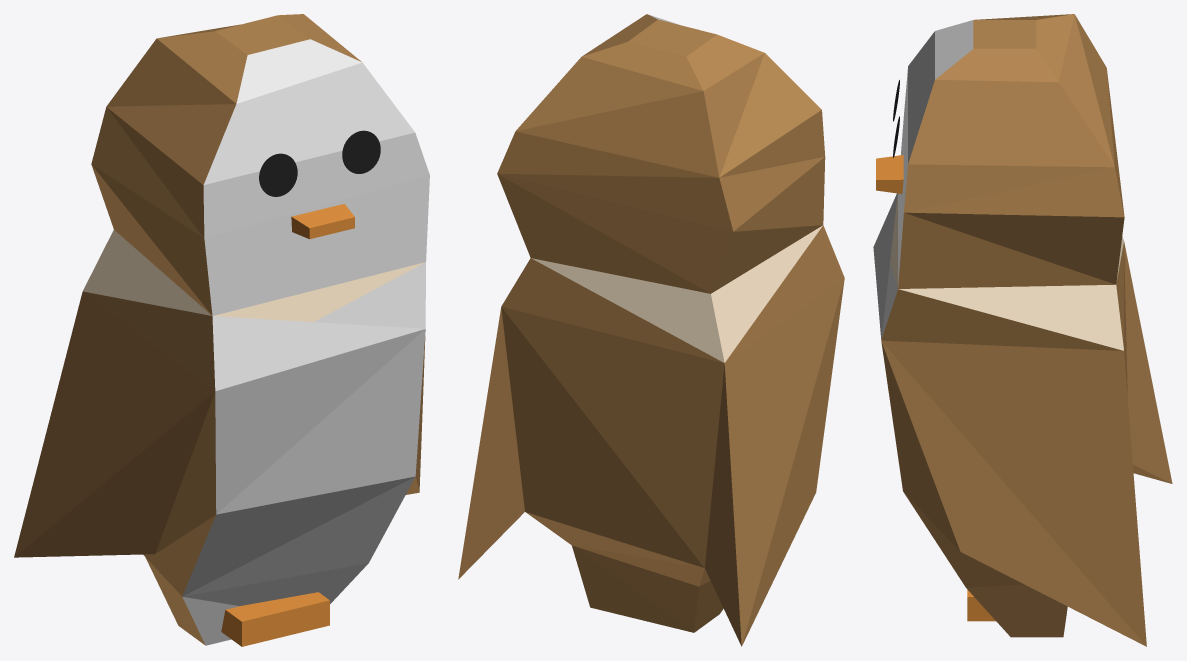
File: Hoot.fbx
3 renders of one model, left to right at view 1: azimuth 30°, elevation 25°; view 2: azimuth 150°, elevation 25°; view 3: azimuth 270°, elevation 25°, orthographic. The views are drawn at different scales.
Parts seen in each view (by area): view 1: Cube, Cube.002, Cube.001, Circle.001, Circle; view 2: Cube; view 3: Cube, Cube.001, Cube.002.
Part boxes in pixels (<box>): Cube: <box>14,14,429,645</box>; Cube.002: <box>221,592,329,646</box>; Cube.001: <box>291,204,354,239</box>; Circle.001: <box>342,130,380,173</box>; Circle: <box>259,153,297,196</box>; Cube: <box>458,14,844,646</box>; Cube: <box>873,14,1172,646</box>; Cube.001: <box>876,155,903,193</box>; Cube.002: <box>967,590,995,621</box>.
Bounding box in the file's own units: 197 × 357 × 168.
